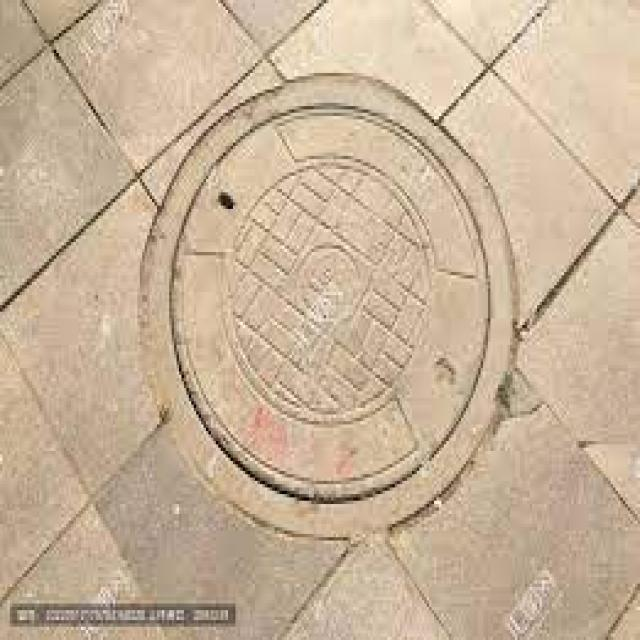manhole: (139, 76, 519, 540)
